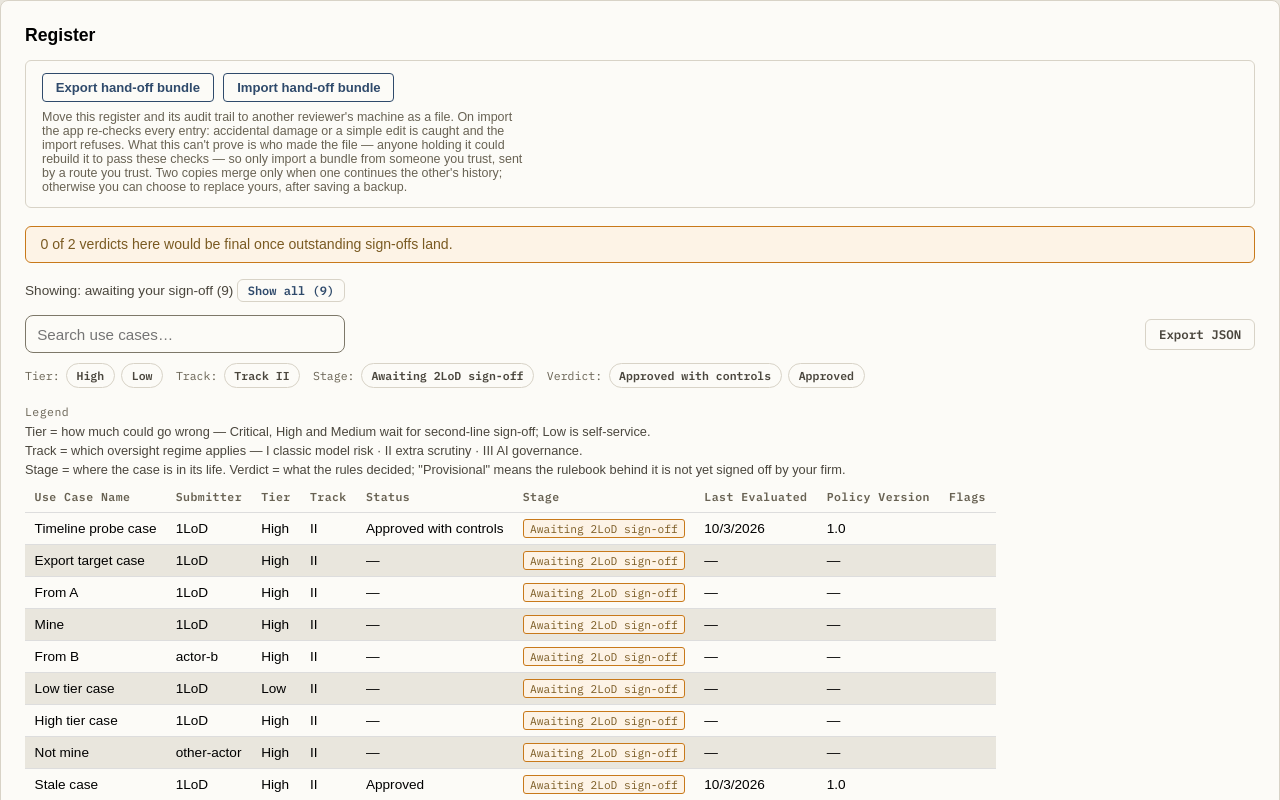
Scenario: RegisterDetail (V1.2-A) › B3/B4: clicking a register row opens the detail view with the immutable audit-trail timeline
What coordinates should you click on to do the following:
click the button "Timeline probe case"
I would click on:
 (96, 528)
Its box is 35,521 -> 156,536.
(page scrolled)
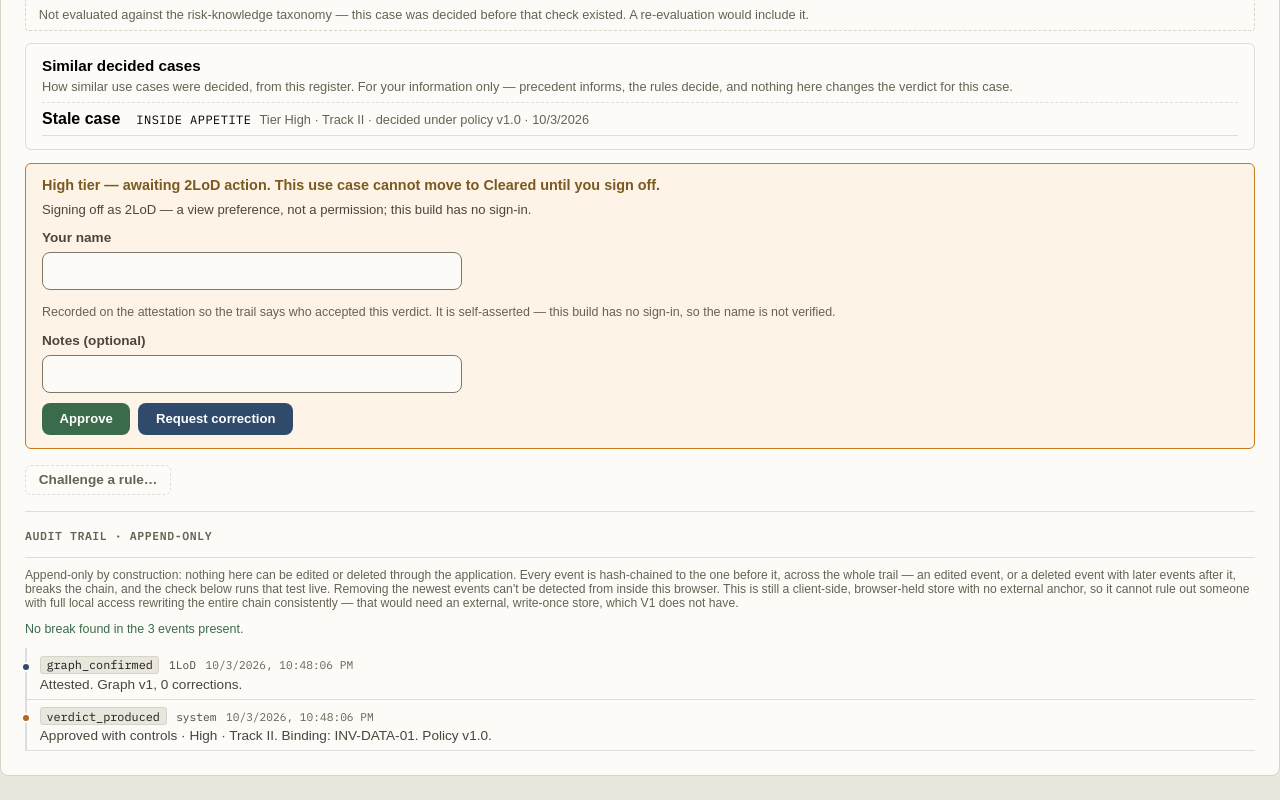
Expected: the heading "Audit trail · append-only" is shown, 25,511 -> 1255,543
Expected: the text "graph_confirmed" is shown, 40,656 -> 160,674
Expected: the text "verdict_produced" is shown, 40,707 -> 167,726
